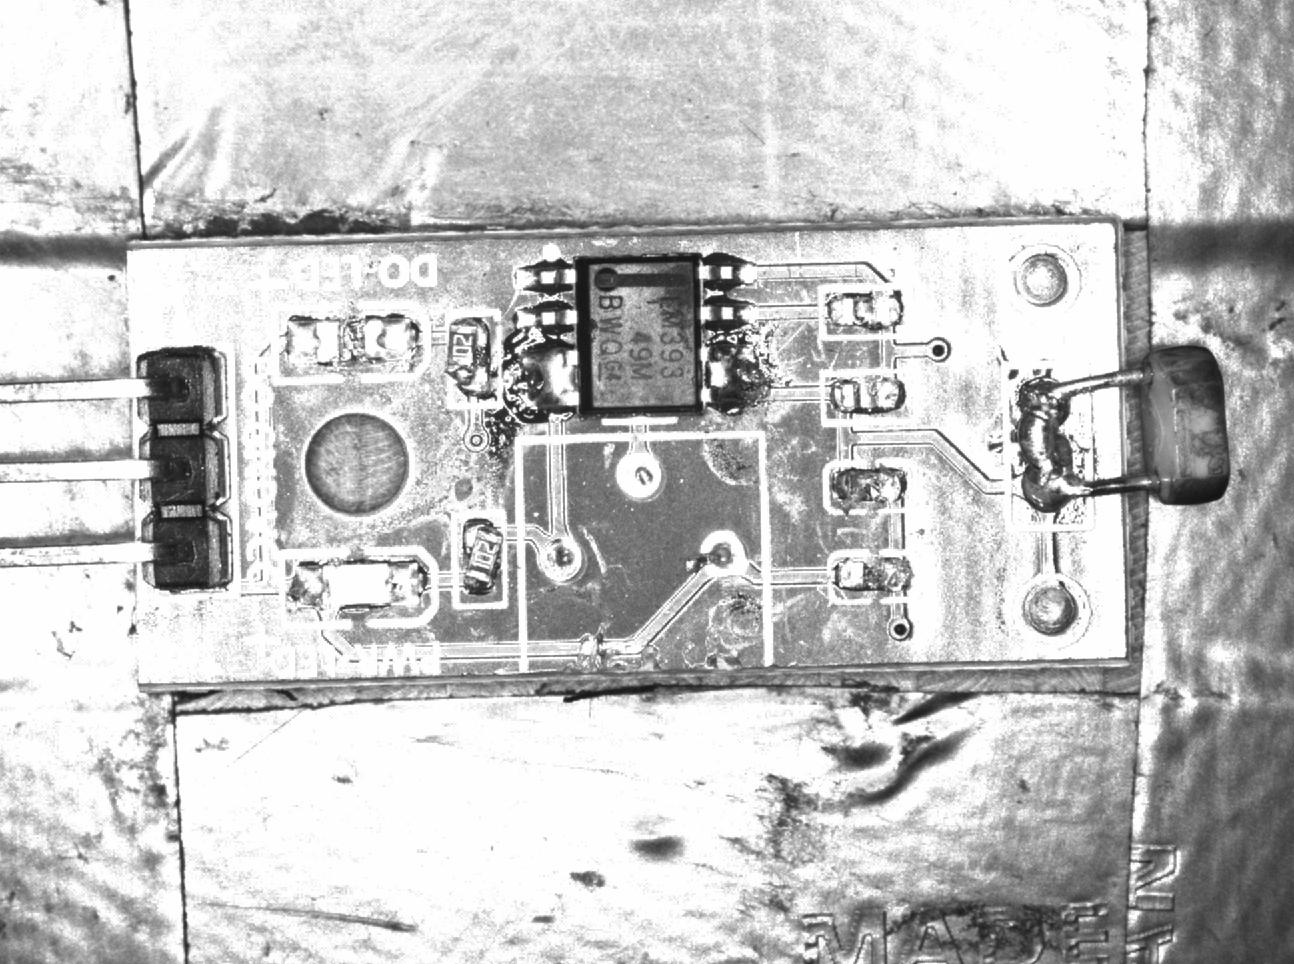bridge: (1007, 365, 1087, 529), (516, 341, 580, 416), (704, 337, 763, 412)
lifted: (442, 313, 502, 409), (457, 513, 509, 607)
miss: (818, 280, 909, 336), (823, 550, 916, 604), (819, 373, 914, 420), (826, 463, 911, 511)
